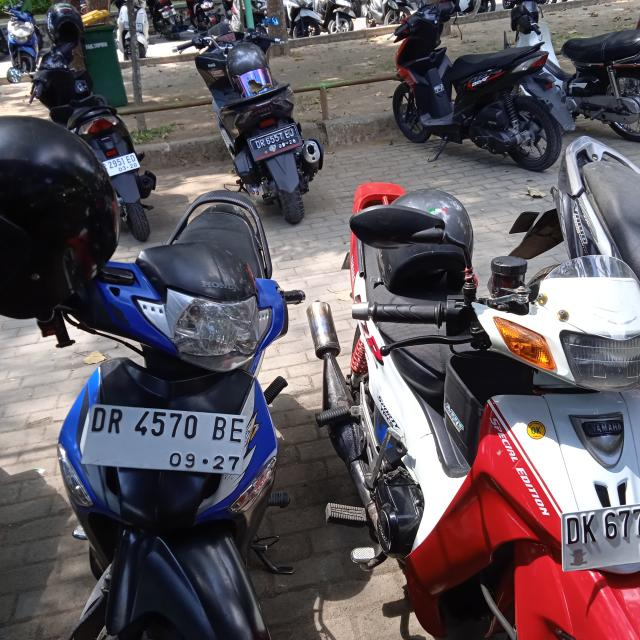plate: (81, 402, 247, 478), (560, 503, 640, 574), (247, 121, 303, 163), (100, 151, 141, 177)
